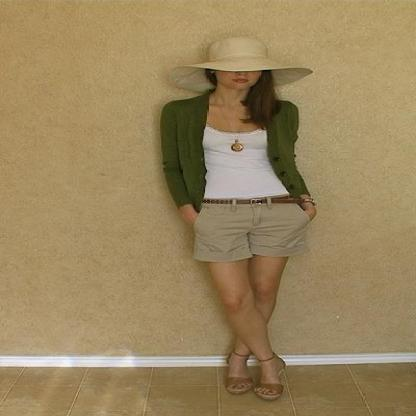hat: (212, 36, 311, 86)
jacket: (160, 89, 308, 207)
shirt: (203, 127, 288, 198)
shoe: (219, 362, 292, 402)
shorts: (194, 193, 306, 265)
